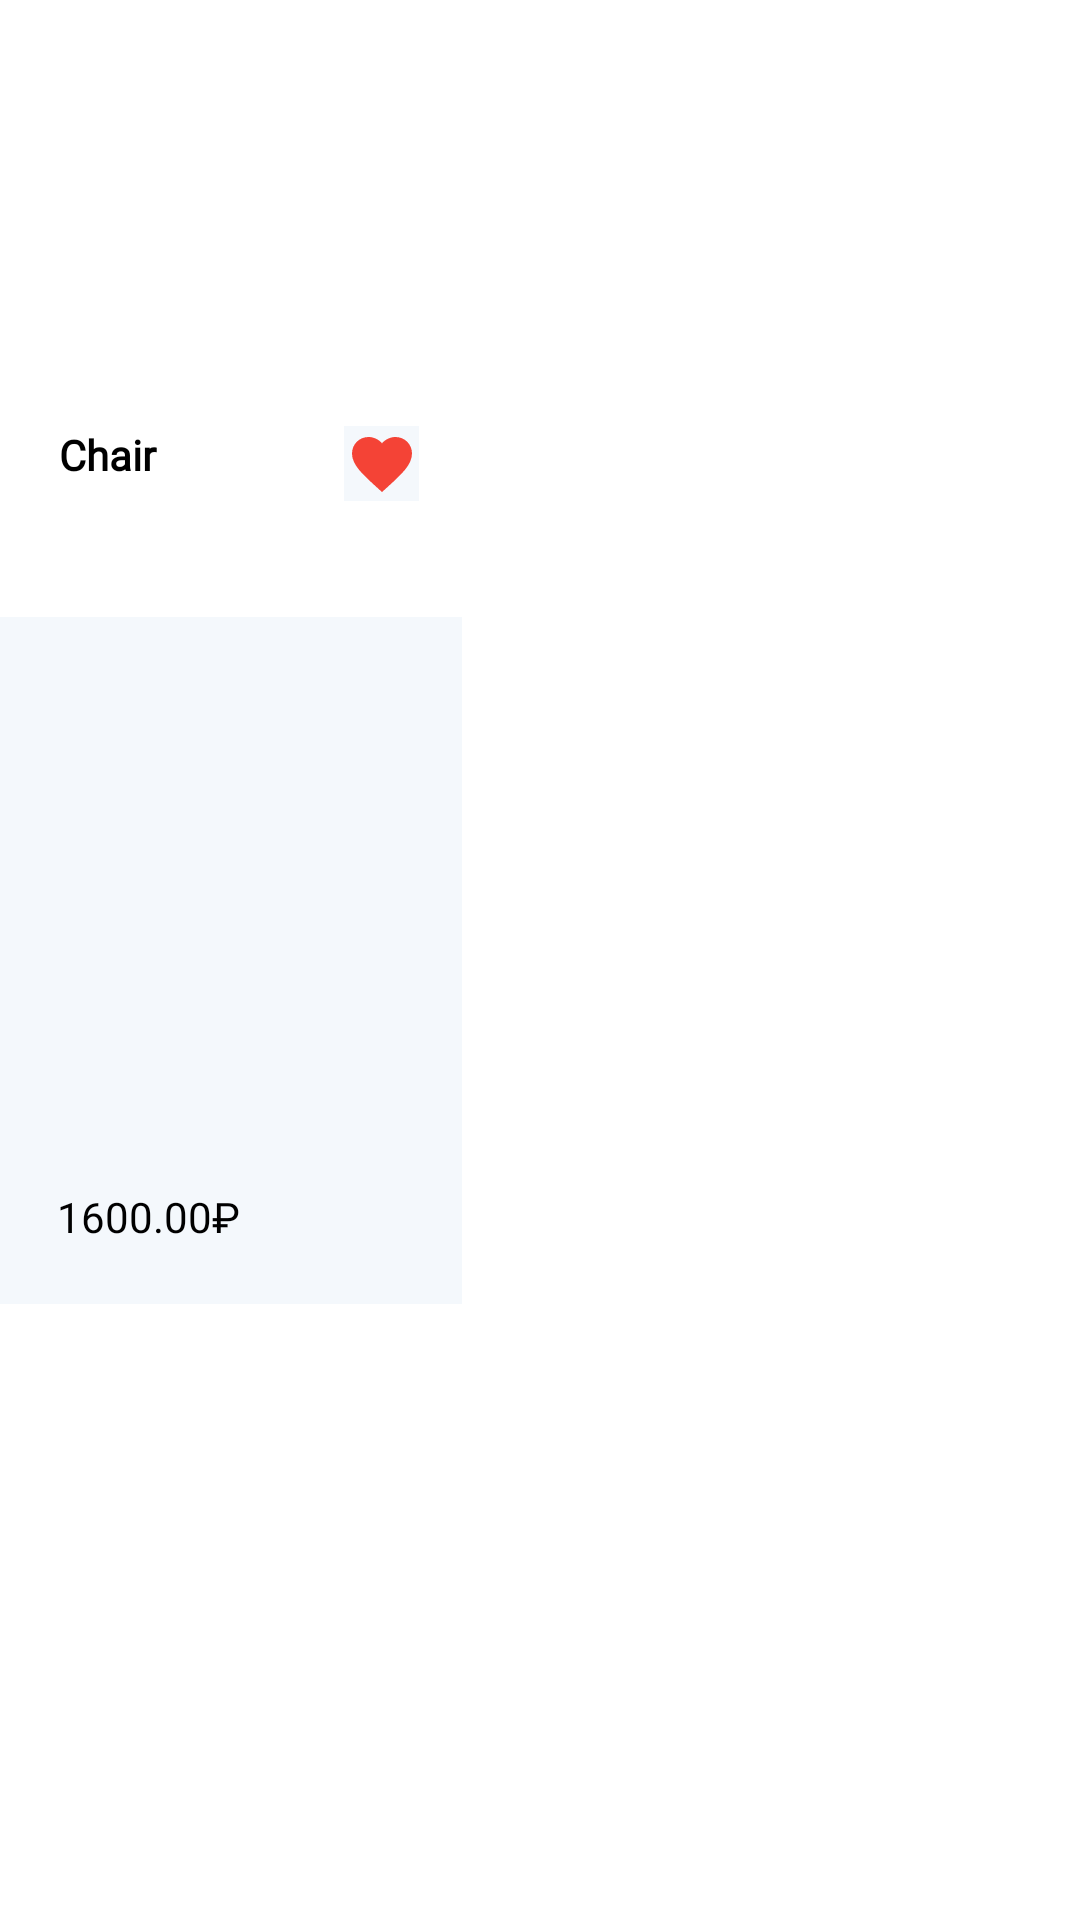

Icons on this 1080 × 1920 Android screen, each with its box as [x1=x1, y1=y1, x2=x2, y2=y2]:
full favorite: [x1=352, y1=437, x2=412, y2=492]
